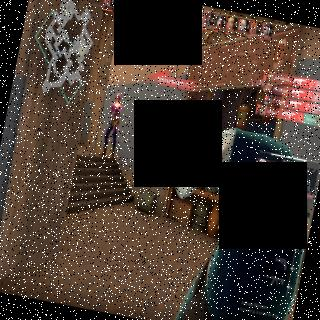ENEMY-BODY: (100, 90, 126, 160)
ENEMY-HEAD: (114, 92, 120, 104)
